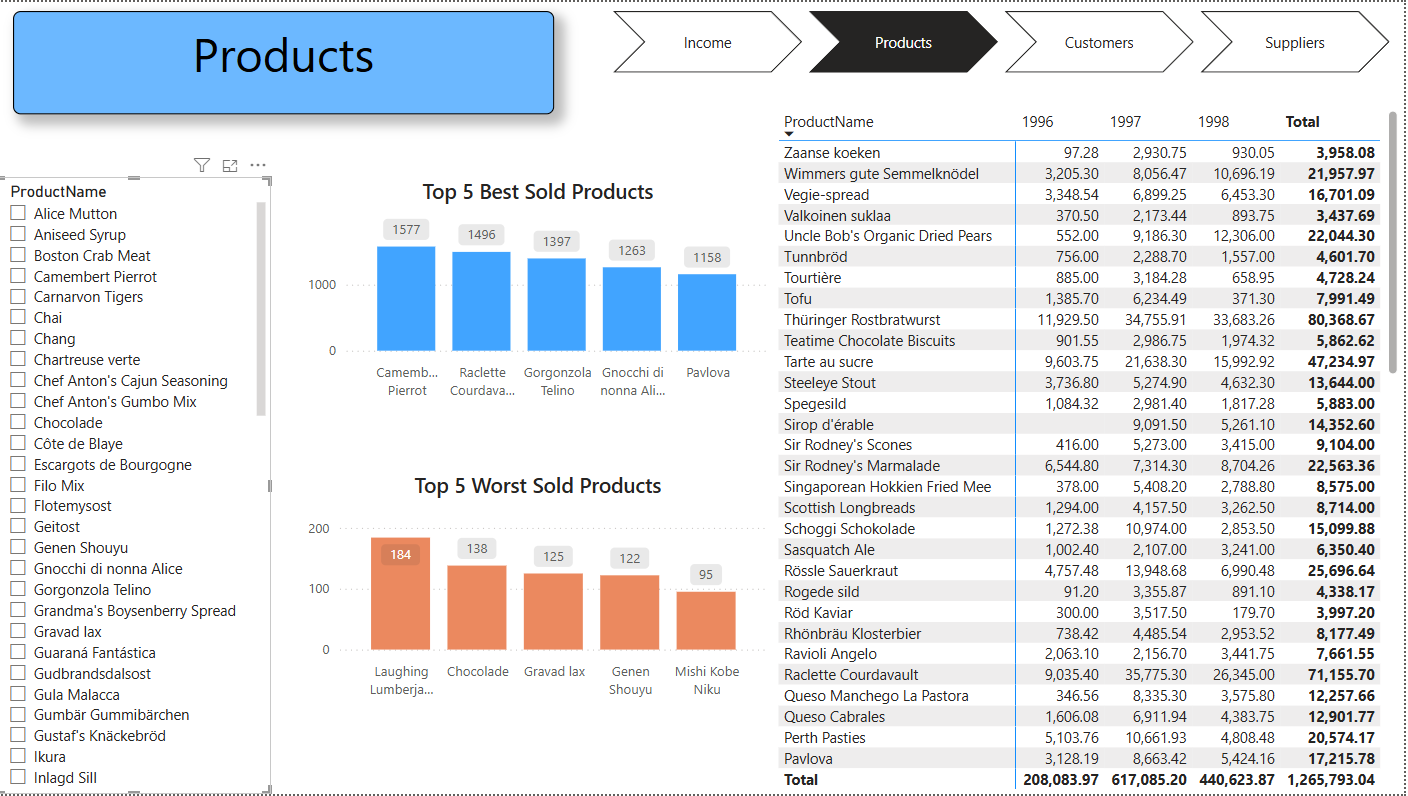

This screenshot's page, from the dashboard's own definition file:
{"tool":"powerbi","page":{"name":"Products","canvas":[1280,720],"ordinal":1},"visuals":[{"type":"pivotTable","fields":{"Rows":["gold DimProduct.ProductName"],"Columns":["gold DimTime.CalendarYear"],"Values":["gold FactSales.Total Income"]},"box":[706.7,93.3,573.3,626.7],"z":0},{"type":"columnChart","title":"Top 5 Best Sold Products","fields":{"Category":["gold DimProduct.ProductName"],"Y":["gold FactSales.Total Quntity"]},"box":[277.8,158.9,428.9,208.9],"z":1000},{"type":"columnChart","title":"Top 5 Worst Sold Products","fields":{"Category":["gold DimProduct.ProductName"],"Y":["gold FactSales.Total Quntity"]},"box":[277.8,426.7,428.9,213.3],"z":2000},{"type":"slicer","fields":{"Values":["gold DimProduct.ProductName"]},"box":[0,158.9,250,561.1],"z":3000},{"type":"pageNavigator","box":[561.1,7.8,706.7,56.7],"z":3001}]}

Visuals, with their boxes in screenshot pixels (x1, y1, x2, y2), scaled from the page's 1280x720 canvas onto the 1408x796 screenshot:
pivotTable - gold DimProduct.ProductName x gold DimTime.CalendarYear: (left=777, top=103, right=1407, bottom=795)
"Top 5 Best Sold Products" columnChart: (left=306, top=176, right=777, bottom=407)
"Top 5 Worst Sold Products" columnChart: (left=306, top=472, right=777, bottom=708)
slicer - gold DimProduct.ProductName: (left=0, top=176, right=275, bottom=795)
pageNavigator: (left=617, top=9, right=1395, bottom=71)
